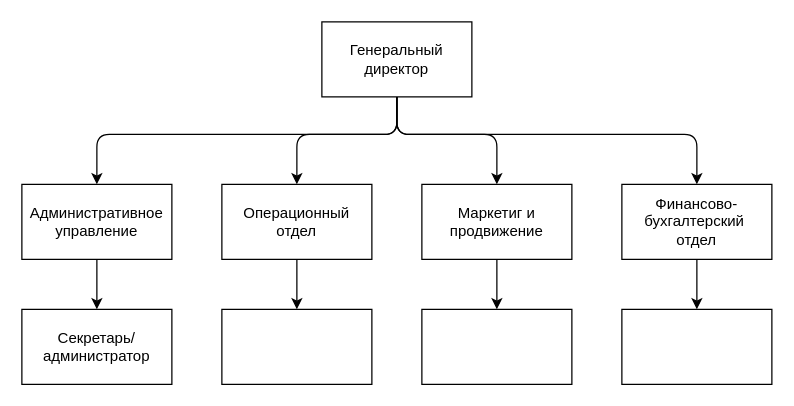
This 794x406 diagram has some shape labels left out. Each missing label, with the box of its shape:
Бухгалтерия: (621, 308, 772, 384)
Дизайн и контент: (421, 308, 572, 384)
Логистика и закупки: (221, 308, 372, 384)
